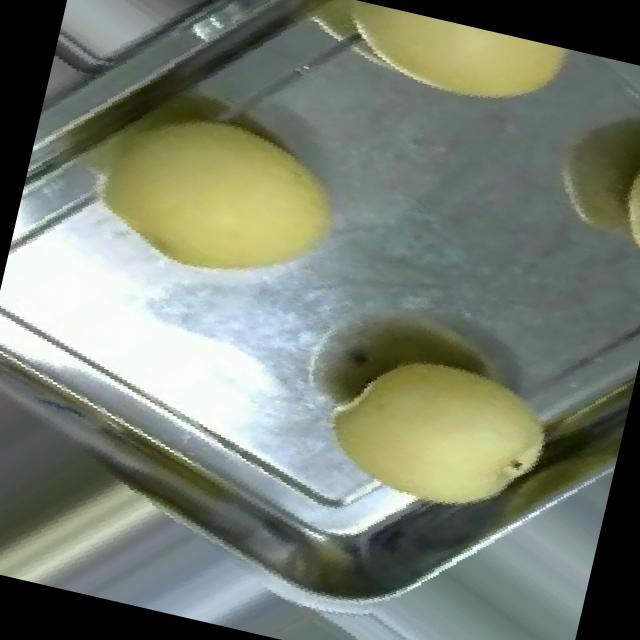Fruit: (15, 40, 380, 336), (282, 300, 588, 562), (293, 0, 599, 157), (585, 95, 640, 290)
